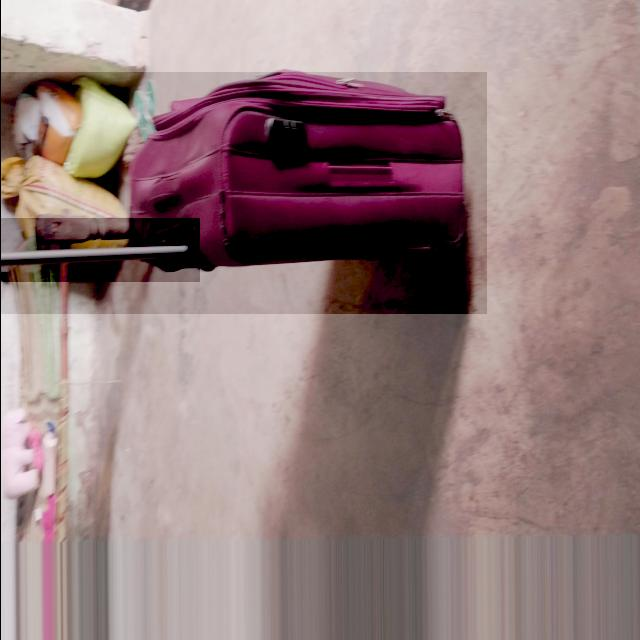Bag: (5, 64, 484, 313)
Handle: (4, 218, 204, 291)
